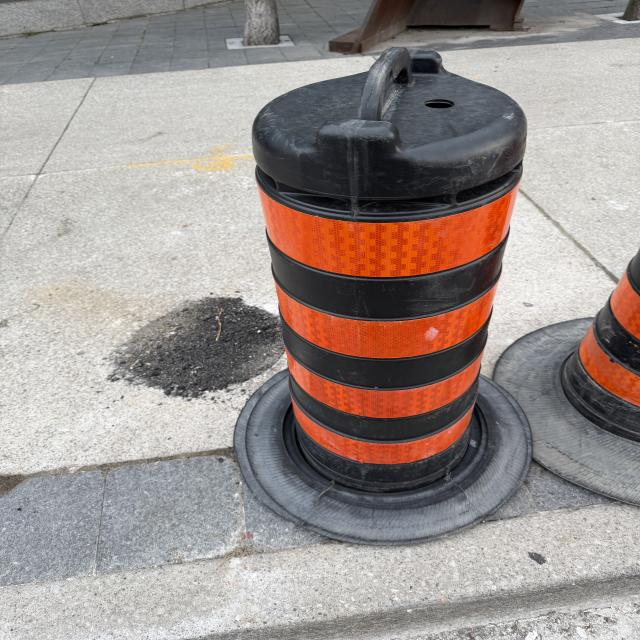Teraffic Barrel: (235, 47, 530, 544), (494, 252, 640, 504)
